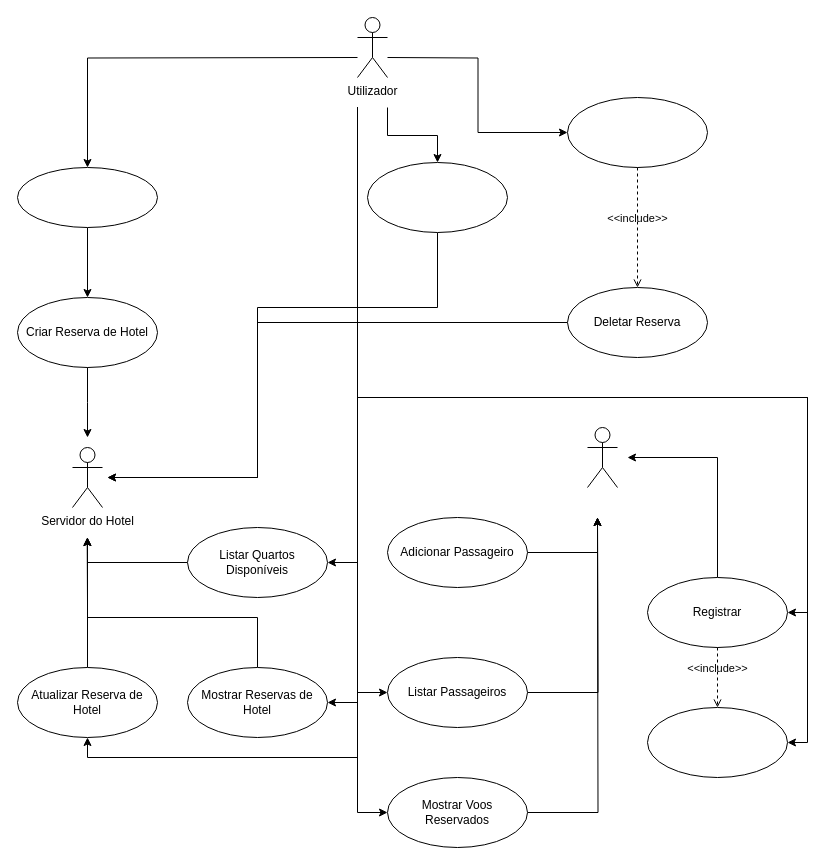
This 833x865 diagram has some shape labels left out. Here are the shapes that lost their labels. From the top down, the centre of each, then its label:
At point (637, 132): "Reservar Voo".
At point (87, 197): "Processar Transação".
At point (437, 197): "Buscar Reserva de Hotel".
At point (602, 457): "Servidor do Flight".
At point (717, 742): "Login".
